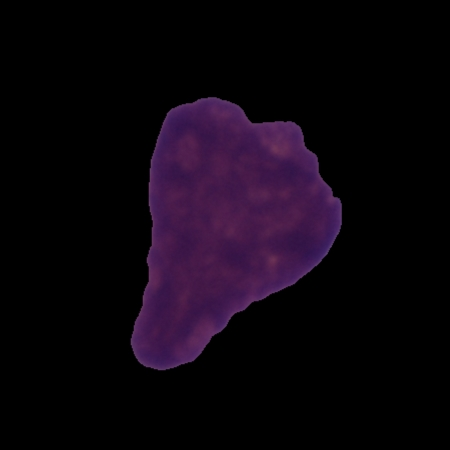ALL: (126, 93, 346, 375)
